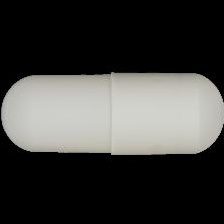42291-678: (0, 0, 224, 224)
